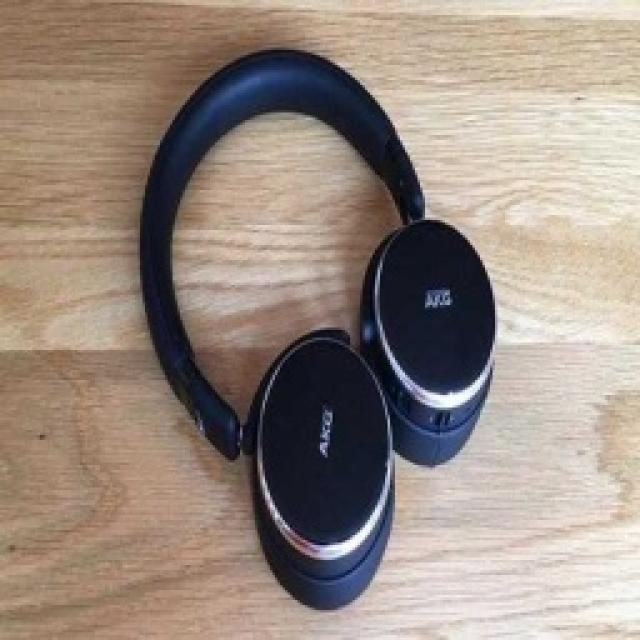headphones: (135, 42, 495, 610)
